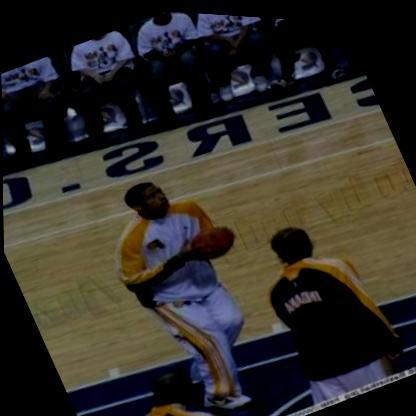basketball: (188, 213, 241, 263)
